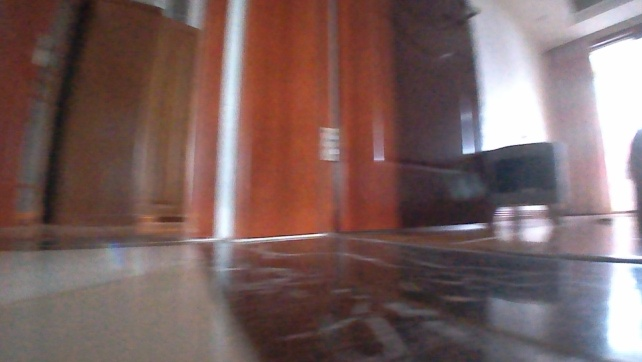door_anno: (227, 0, 497, 241)
